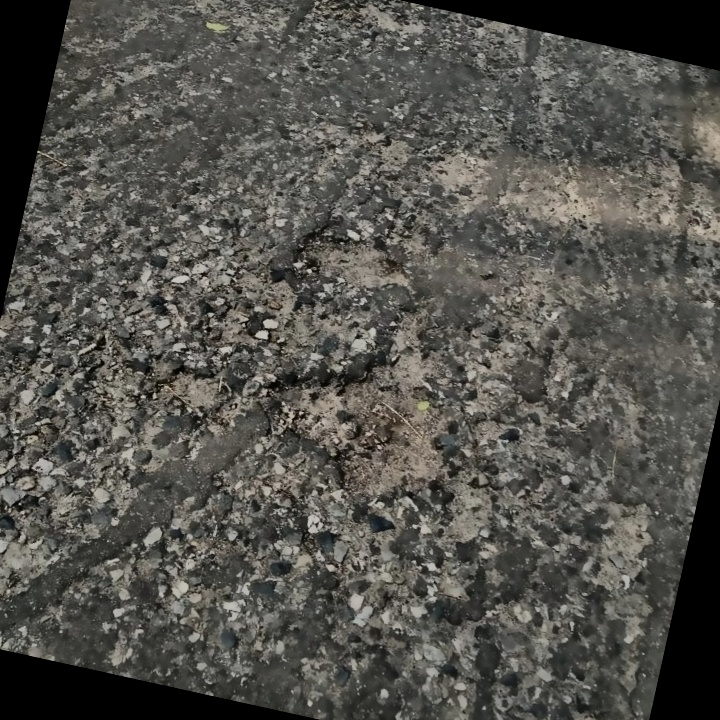pothole: (243, 315, 469, 513), (287, 220, 418, 304), (148, 357, 228, 416)
